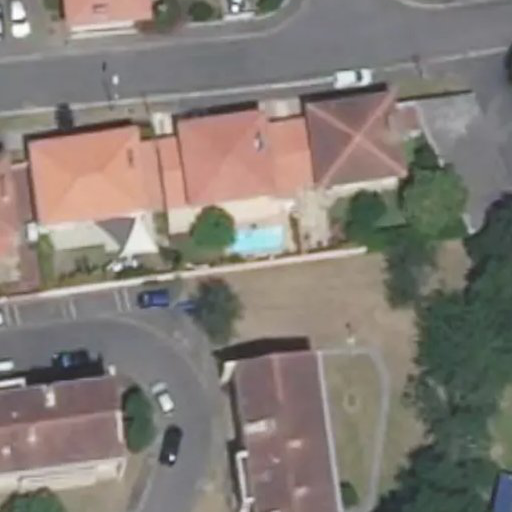pool: (228, 229, 283, 254)
